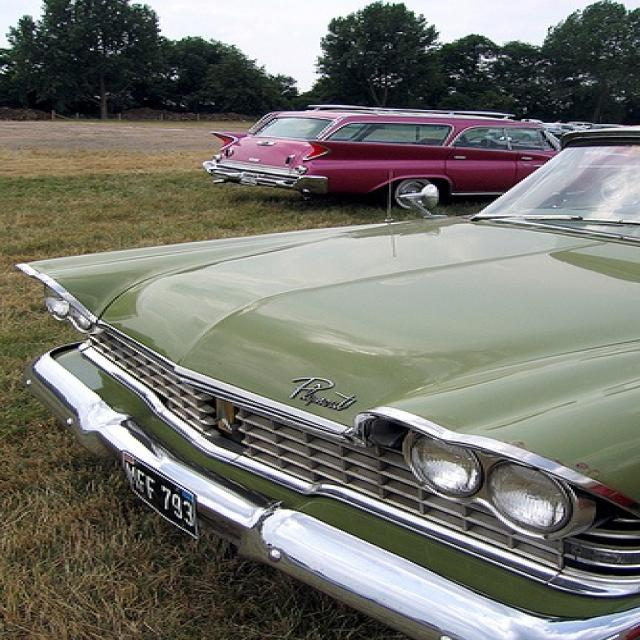car: (21, 123, 634, 639), (201, 105, 567, 211)
